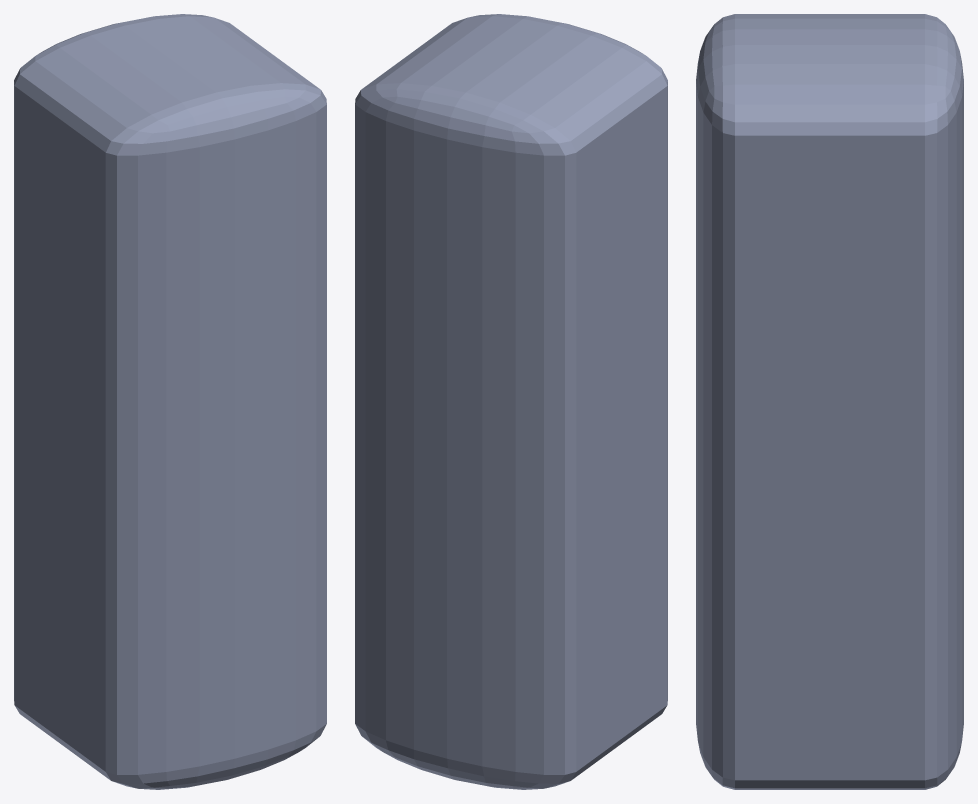
File: Alto.fbx
3 views of the same model, side by side, from view 1: azimuth 30°, elevation 25°; view 2: azimuth 150°, elevation 25°; view 3: azimuth 270°, elevation 25° (orthographic). The views are drawn at different scales.
Parts seen in each view (by area): view 1: alto; view 2: alto; view 3: alto.
Part boxes in pixels (x1,y1,x2,y2): alto: (14,14,326,789); alto: (355,14,667,789); alto: (696,14,963,789).
Size of the model in its own units: 207 by 614 by 209.
